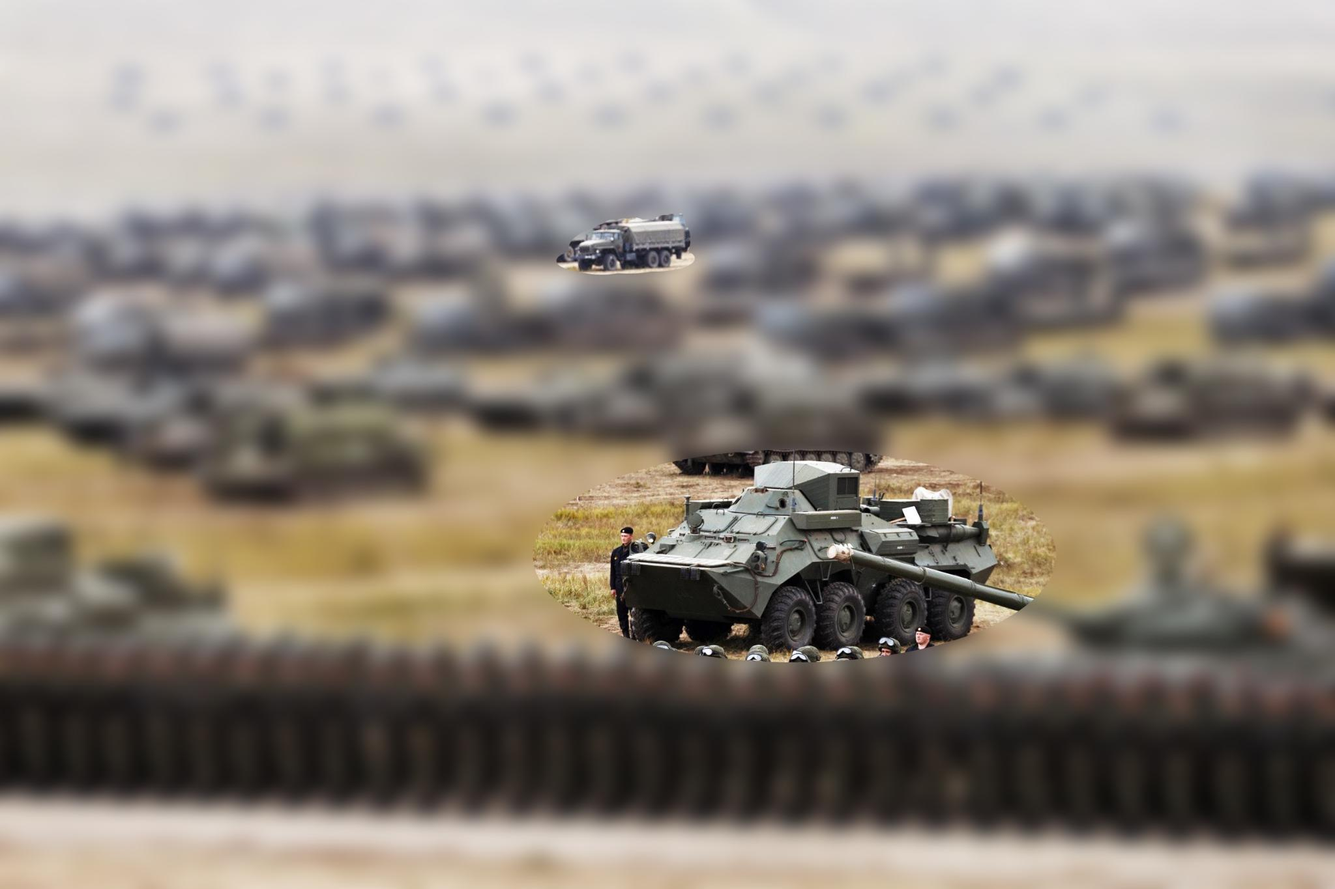armored_car: (617, 461, 1015, 650)
truck: (557, 215, 692, 273)
